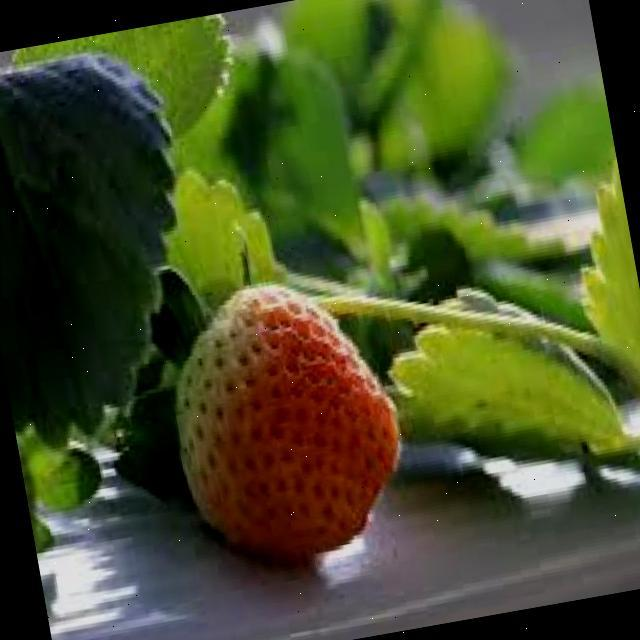unripe: (151, 262, 417, 576)
